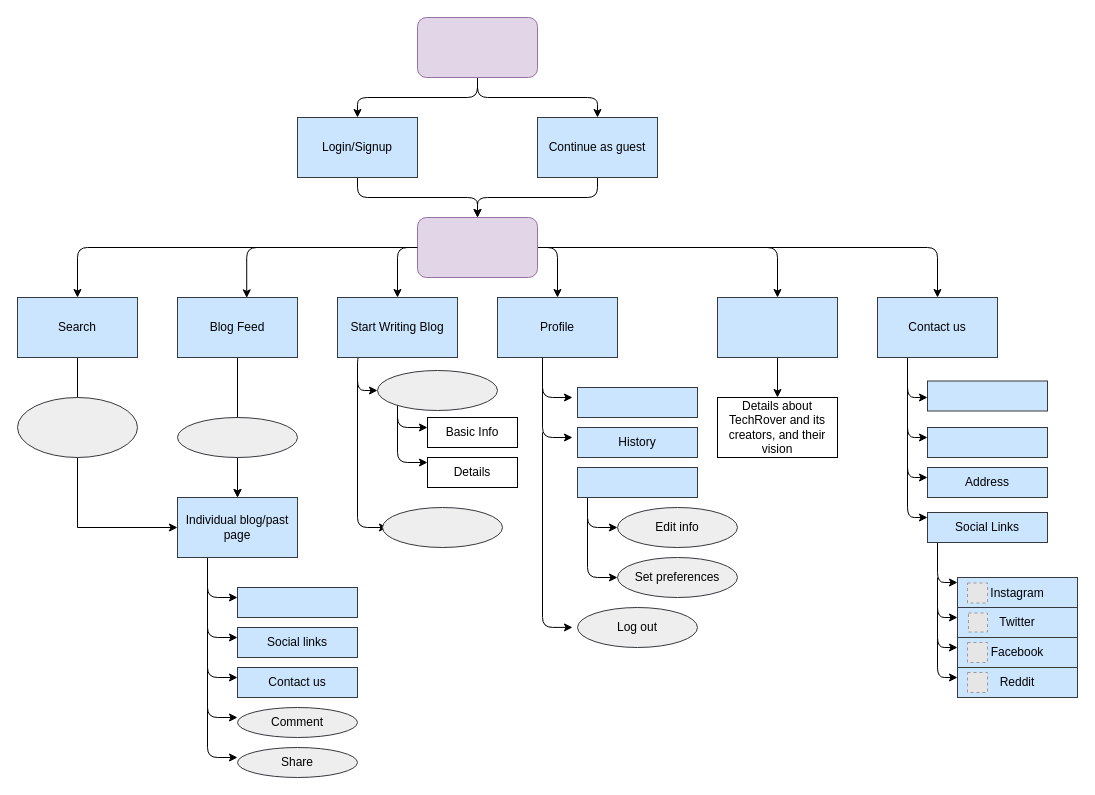
This 1095x795 diagram has some shape labels left out. Grey dashed boxes stand in for pictures. The centre of each missing label's shape, as x and y in pixels:
About the Author: the point at 297,602
About Us: the point at 777,327
By categories By Author name By blog name: the point at 77,427
Email us: the point at 987,442
HOME PAGE: the point at 477,247
Info: the point at 637,402
ONBOARDING: the point at 477,47
Phone no.: the point at 987,395
Publish: the point at 442,527
Set up your profile by putting in: the point at 437,390
Settings: the point at 637,482
Upon clicking: the point at 237,437
